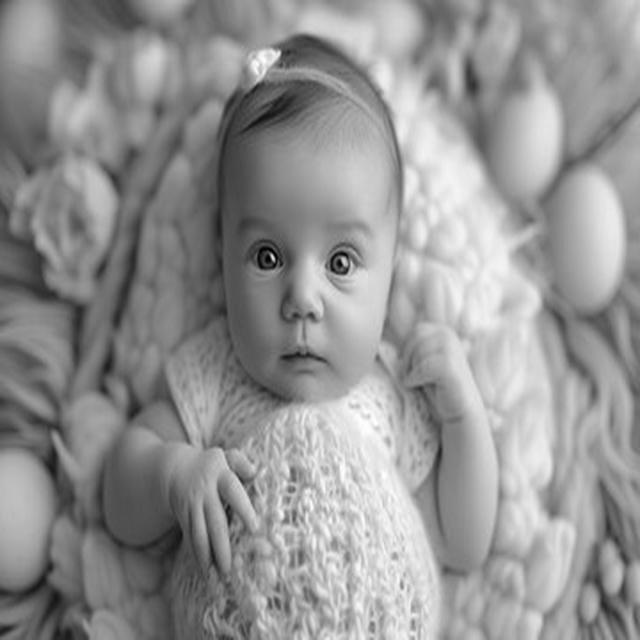Neutral: (223, 143, 396, 401)
